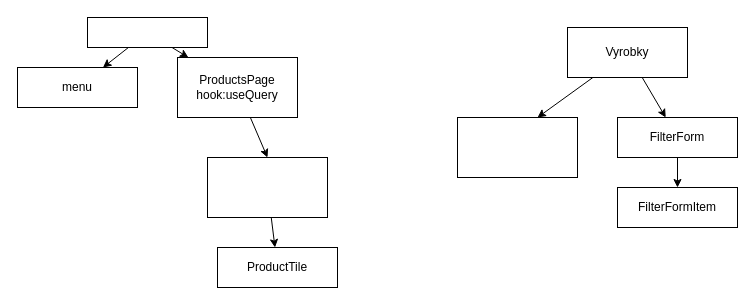
Image size: 755x305. Some labels were removed from this diagram. The shapes that lost their labels are listed below. From the top down, each one's centre as x and y in pixels, then its label:
At (147,32): "Homepage".
At (517,147): "ProductTypeList".
At (267,187): "ProductTiles".
